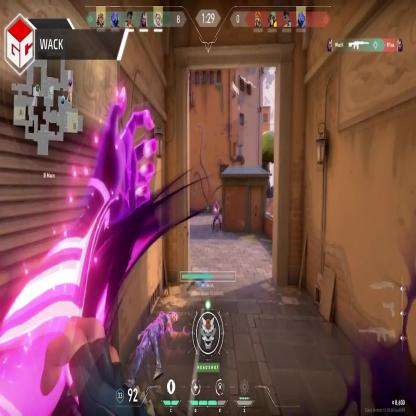enemy: (212, 200, 222, 229)
enemy_head: (215, 201, 218, 208)
